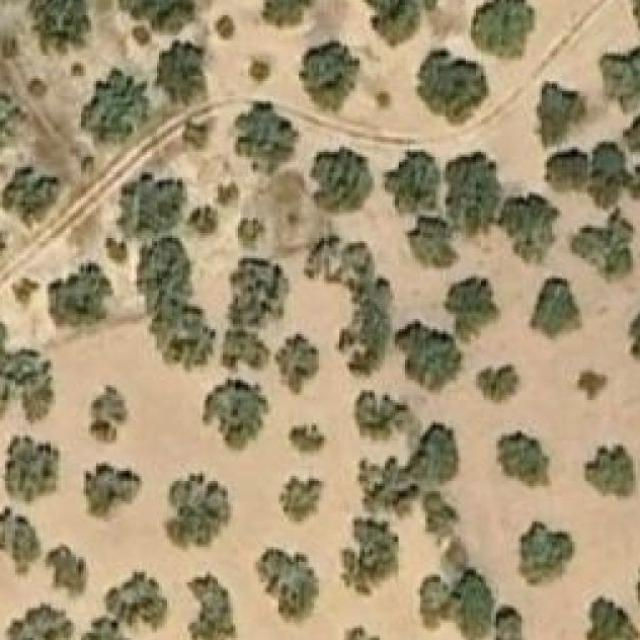Tree: (134, 238, 212, 369), (334, 243, 393, 375), (252, 545, 326, 629), (162, 471, 231, 557), (415, 50, 491, 126), (200, 379, 270, 454), (395, 322, 464, 396), (81, 71, 150, 142), (235, 101, 301, 175), (115, 170, 184, 237), (446, 155, 501, 236), (228, 258, 288, 329), (103, 567, 169, 631), (344, 522, 403, 592), (301, 40, 359, 111), (0, 350, 54, 426), (517, 518, 575, 588), (48, 261, 108, 327), (5, 436, 61, 506), (27, 0, 91, 61), (572, 215, 638, 273), (314, 150, 373, 214), (471, 0, 535, 58), (503, 196, 559, 262), (360, 0, 440, 46), (186, 572, 240, 640), (445, 274, 498, 342), (587, 140, 640, 208), (83, 463, 142, 521), (385, 152, 440, 213), (154, 40, 204, 104), (2, 167, 58, 221), (581, 444, 635, 499), (409, 428, 463, 482), (357, 461, 412, 514), (498, 430, 549, 486), (532, 279, 580, 337), (539, 84, 584, 145), (0, 506, 41, 572), (584, 594, 640, 640), (113, 0, 198, 30), (5, 602, 71, 640), (451, 580, 496, 634), (473, 363, 521, 413), (601, 47, 640, 108), (88, 385, 129, 443), (279, 476, 327, 525), (48, 545, 88, 600), (412, 218, 456, 268), (354, 393, 405, 436), (275, 339, 316, 388), (0, 86, 29, 154), (546, 147, 589, 192), (73, 614, 142, 640), (263, 0, 316, 25), (576, 365, 610, 403), (289, 420, 324, 454), (187, 205, 218, 241), (179, 119, 212, 148), (238, 218, 266, 246), (215, 180, 243, 208), (628, 309, 640, 373), (12, 278, 38, 307), (628, 109, 640, 163), (344, 625, 383, 640), (218, 15, 236, 39), (250, 61, 271, 81), (132, 23, 152, 44), (31, 76, 49, 99)
